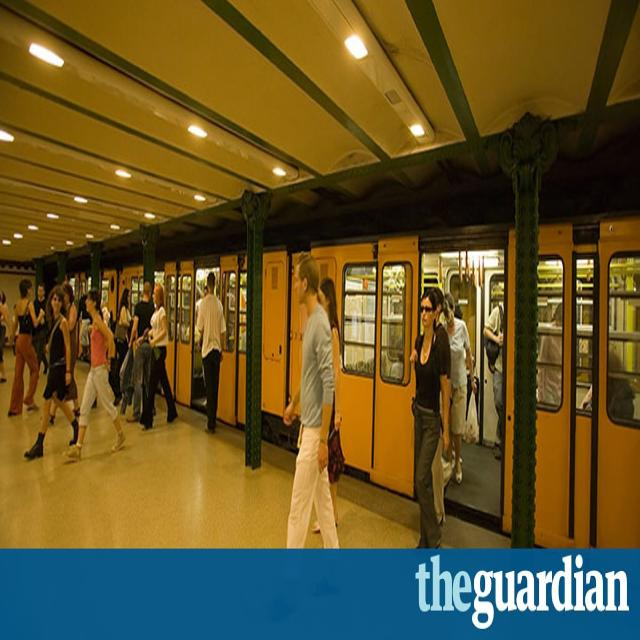body: (280, 250, 342, 549), (281, 276, 346, 534), (61, 287, 127, 462), (22, 284, 84, 462), (409, 288, 450, 550), (442, 292, 477, 483), (428, 284, 454, 538), (138, 282, 178, 431), (6, 278, 46, 420), (578, 336, 635, 425), (48, 279, 81, 428), (196, 270, 223, 435), (482, 299, 505, 462), (128, 280, 154, 422), (536, 299, 564, 406), (112, 286, 134, 406), (0, 283, 20, 384), (195, 284, 210, 408), (451, 296, 476, 364), (102, 299, 117, 404), (33, 284, 49, 376), (75, 284, 92, 362), (228, 290, 247, 350), (169, 305, 191, 343), (389, 343, 405, 390), (195, 282, 202, 309)
